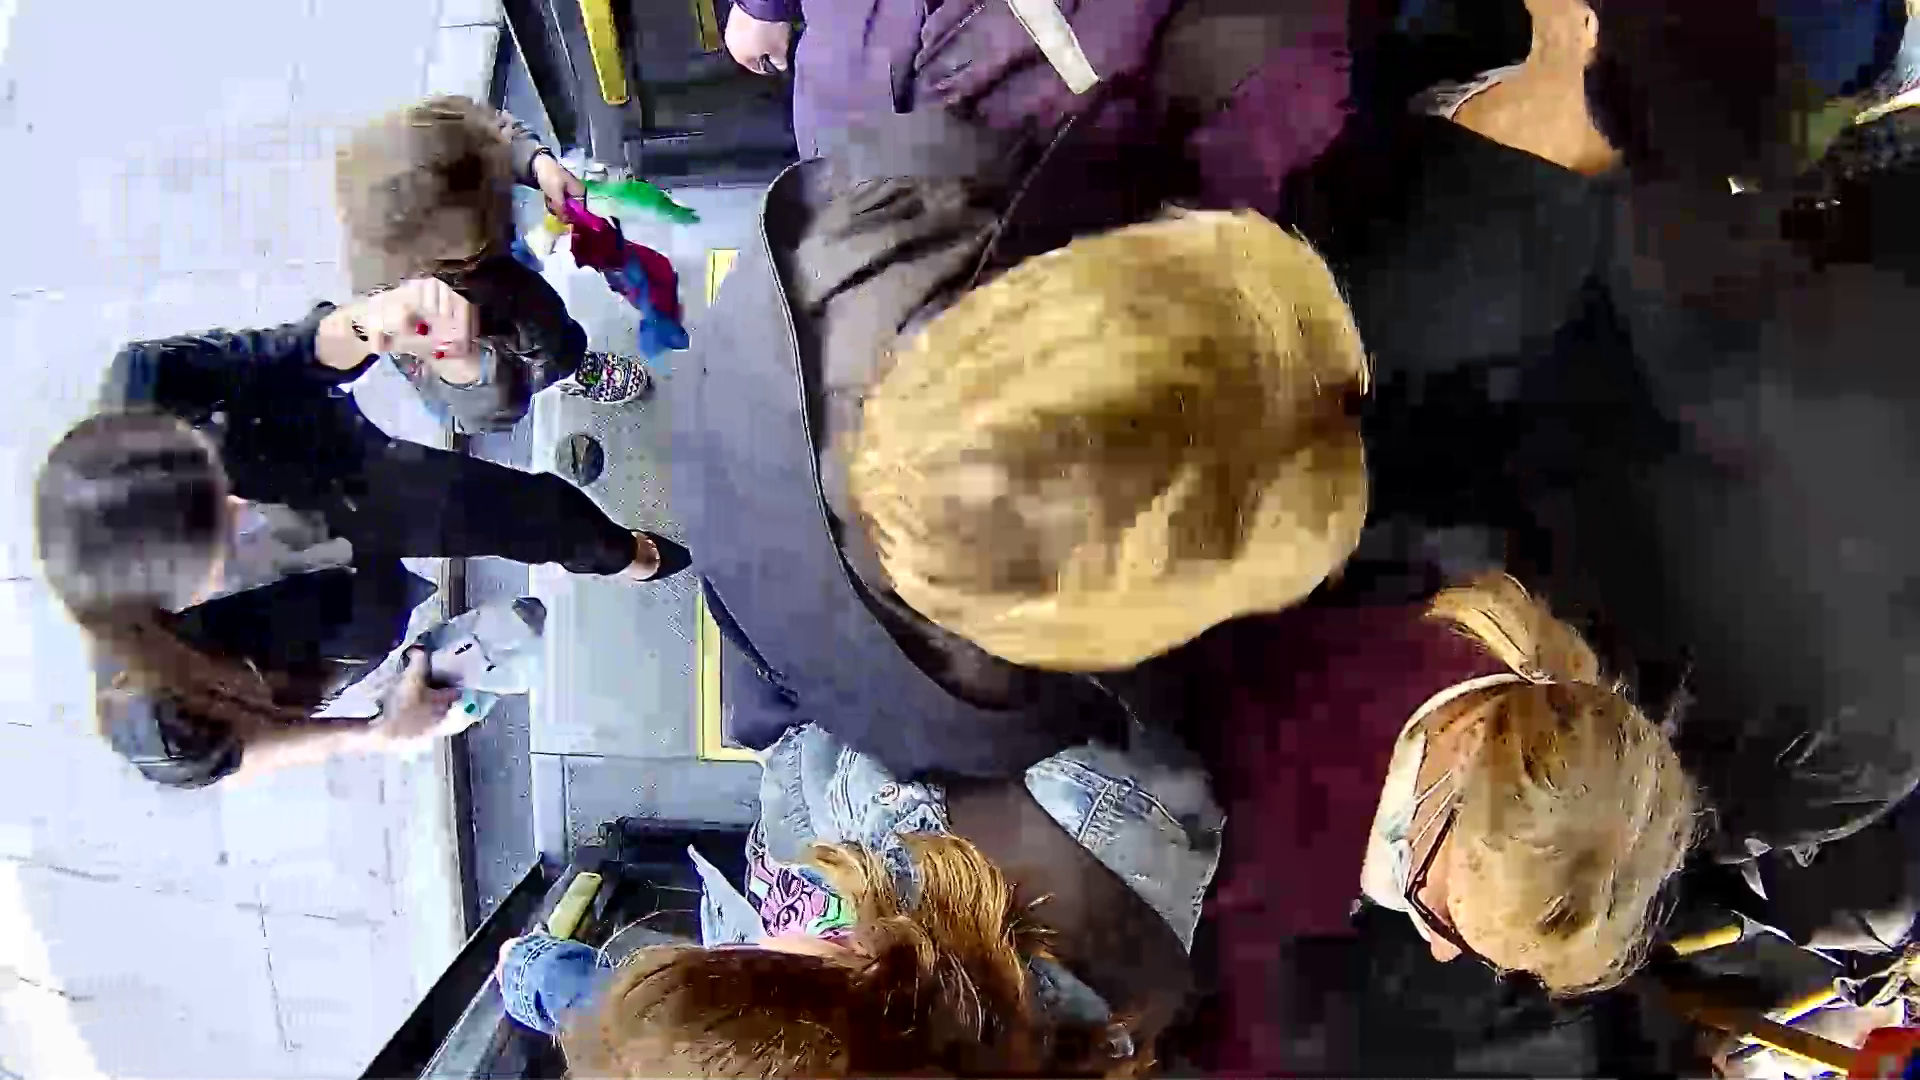person: (705, 142, 1400, 711), (79, 309, 654, 751), (1228, 615, 1693, 1050), (309, 128, 701, 428)
